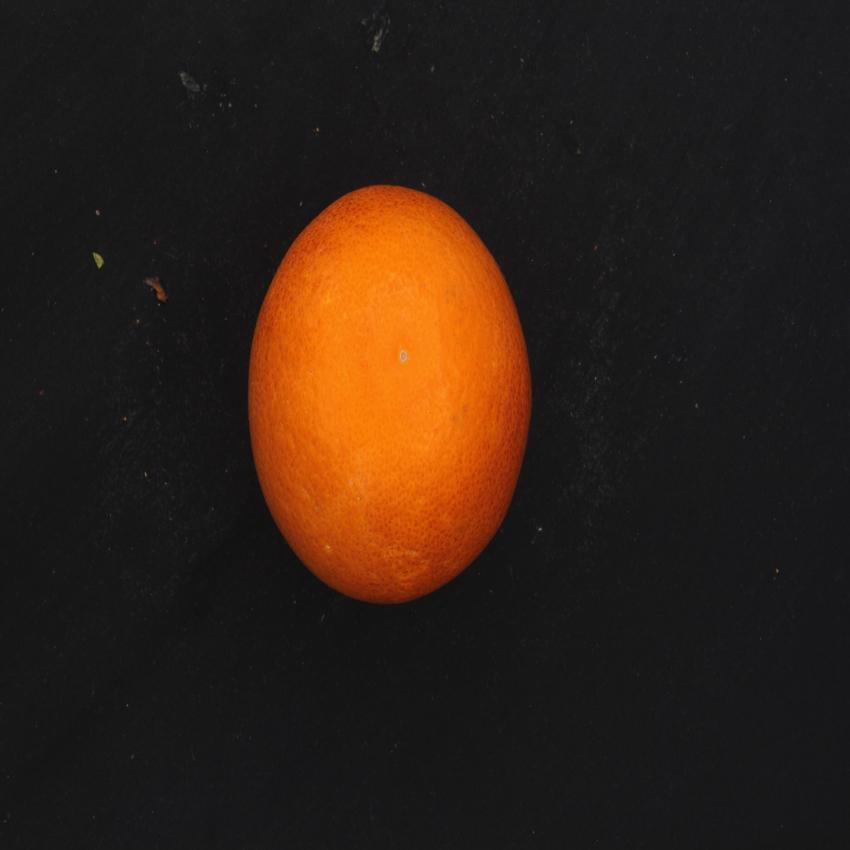Buen estado: (244, 173, 542, 616)
